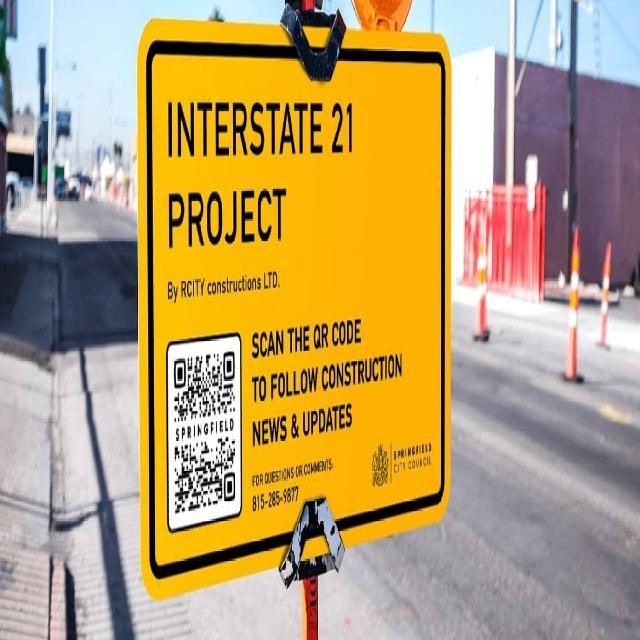qr_code: (173, 351, 236, 514)
